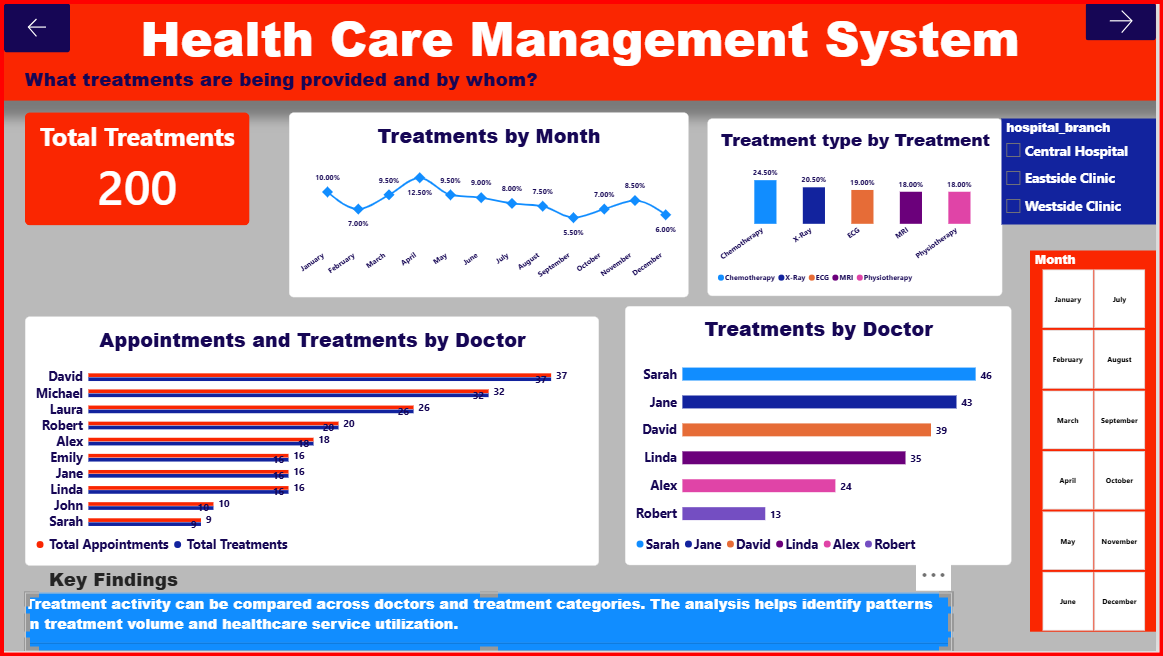

What the dashboard file says about the page in this screenshot:
{"tool":"powerbi","page":{"name":"TREATMENT ANALYSIS","canvas":[1920,1080],"ordinal":2},"visuals":[{"type":"textbox","title":" Health Care Management System","box":[0,0,1920,162.5],"z":0},{"type":"barChart","title":"Treatments by Doctor","fields":{"Category":["cleaned_doctors.first_name"],"Series":["cleaned_doctors.first_name"],"Y":["Descriptive Analys.Total Treatments"]},"box":[1035.5,505.8,644.2,431.9],"z":1000},{"type":"columnChart","title":"Treatment type by Treatment","fields":{"Category":["cleaned_treatments.treatment_type"],"Series":["cleaned_treatments.treatment_type"],"Y":["Descriptive Analys.Total Treatments"]},"box":[1171.5,193.3,491.5,295.9],"z":2000},{"type":"clusteredBarChart","title":"Appointments and Treatments by Doctor","fields":{"Category":["cleaned_patients.first_name"],"Y":["Descriptive Analys.Total Appointments","Descriptive Analys.Total Treatments"]},"box":[35.8,522.5,956.8,415.1],"z":3000},{"type":"slicer","fields":{"Values":["cleaned_doctors.hospital_branch"]},"box":[1663,193.3,257.7,176.6],"z":4000},{"type":"slicer","fields":{"Values":["DateTable.Month"]},"box":[1710,412.5,210,635],"z":5000},{"type":"shape","title":"Key Findings","box":[75,937.5,1035,52.5],"z":6000},{"type":"textbox","title":"What treatments are being provided and by whom?","box":[35,105,1262.5,90],"z":7000},{"type":"actionButton","box":[1802.5,0,117.5,62.5],"z":8000},{"type":"actionButton","box":[0,0,110,82.5],"z":9000},{"type":"lineChart","title":"Treatments by Month","fields":{"Category":["DateTable.Month"],"Y":["Descriptive Analys.Total Treatments"]},"box":[474.8,181.3,665.7,307.8],"z":10000},{"type":"cardVisual","fields":{"Data":["Descriptive Analys.Total Treatments"]},"box":[35.8,181.3,374.6,188.5],"z":11000},{"type":"shape","title":"Treatment activity can be compared across doctors and treatment categories. The analysis helps identify patterns in treatment volume and healthcare service utilization.","box":[35,982.5,1545,97.5],"z":12000}]}

Visuals, with their boxes in screenshot pixels (x1, y1, x2, y2), scaled from the page's 1920x1080 canvas onto the 1163x656 screenshot:
" Health Care Management System" textbox: {"x1": 0, "y1": 0, "x2": 1162, "y2": 99}
"Treatments by Doctor" barChart: {"x1": 627, "y1": 307, "x2": 1017, "y2": 570}
"Treatment type by Treatment" columnChart: {"x1": 710, "y1": 117, "x2": 1007, "y2": 297}
"Appointments and Treatments by Doctor" clusteredBarChart: {"x1": 22, "y1": 317, "x2": 601, "y2": 570}
slicer - cleaned_doctors.hospital_branch: {"x1": 1007, "y1": 117, "x2": 1162, "y2": 225}
slicer - DateTable.Month: {"x1": 1036, "y1": 251, "x2": 1162, "y2": 636}
"Key Findings" shape: {"x1": 45, "y1": 569, "x2": 672, "y2": 601}
"What treatments are being provided and by whom?" textbox: {"x1": 21, "y1": 64, "x2": 786, "y2": 118}
actionButton: {"x1": 1092, "y1": 0, "x2": 1162, "y2": 38}
actionButton: {"x1": 0, "y1": 0, "x2": 67, "y2": 50}
"Treatments by Month" lineChart: {"x1": 288, "y1": 110, "x2": 691, "y2": 297}
cardVisual - Descriptive Analys.Total Treatments: {"x1": 22, "y1": 110, "x2": 249, "y2": 225}
"Treatment activity can be compared across doctors and treatment categories. The analysis helps identify patterns in treatment volume and healthcare service utilization." shape: {"x1": 21, "y1": 597, "x2": 957, "y2": 655}
